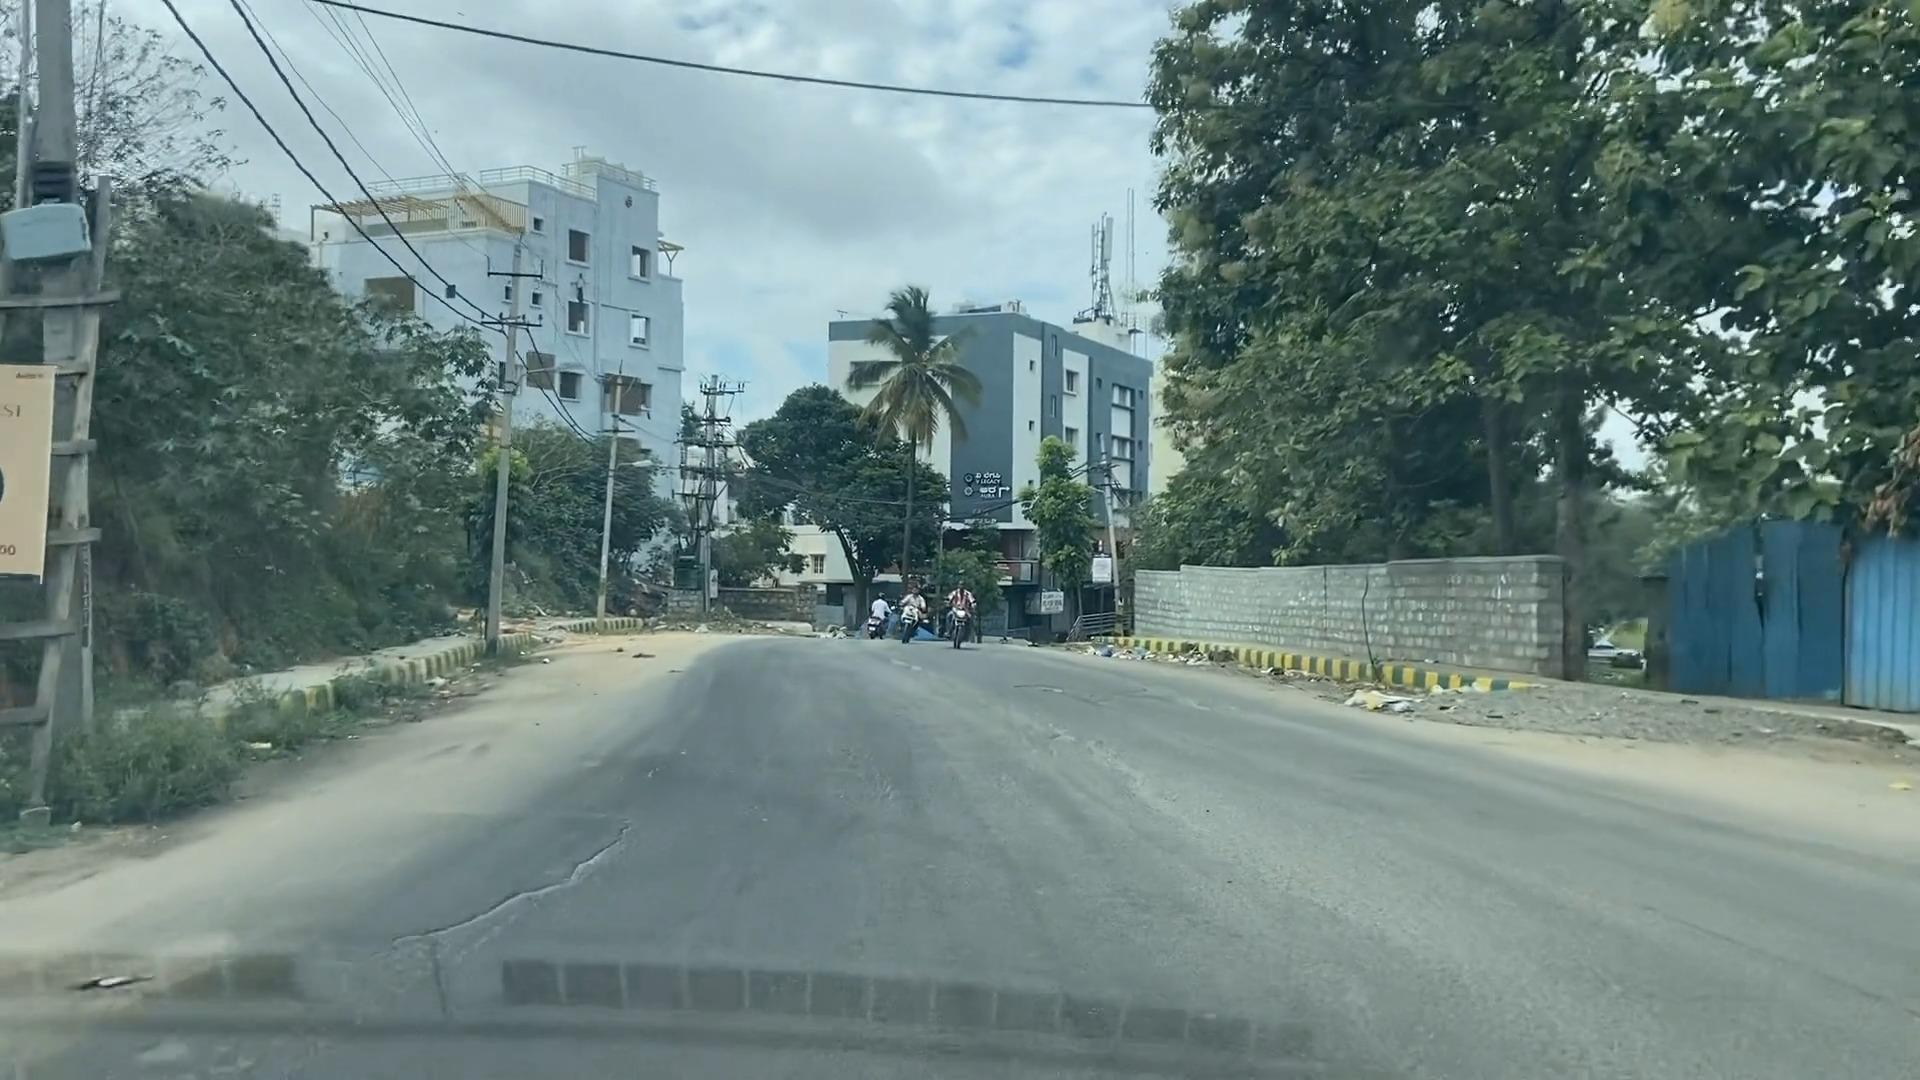LMV: (940, 564, 1005, 665)
